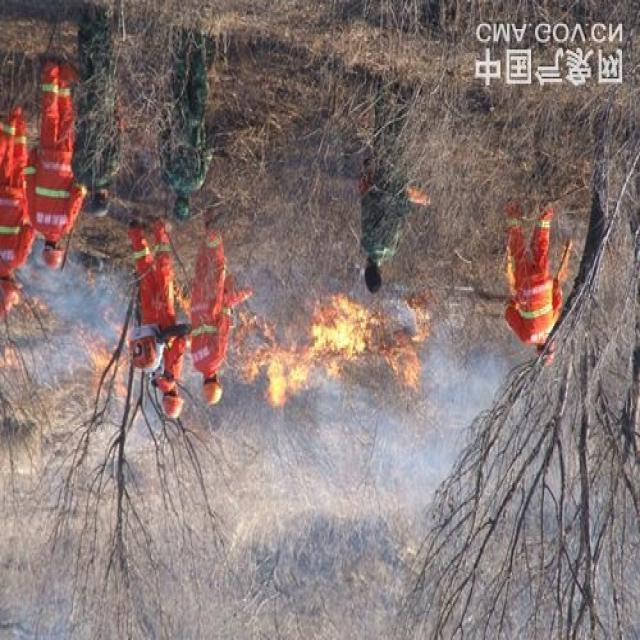fire: (225, 293, 430, 407), (89, 310, 125, 383), (112, 337, 128, 398)
